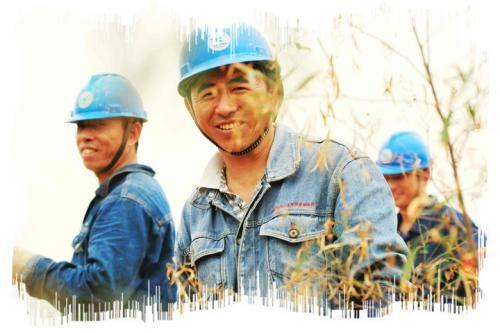not_helmet: (175, 18, 283, 159), (66, 70, 151, 172), (372, 127, 435, 209)
not_reflective: (180, 138, 376, 303), (69, 165, 180, 309), (396, 202, 488, 312)
